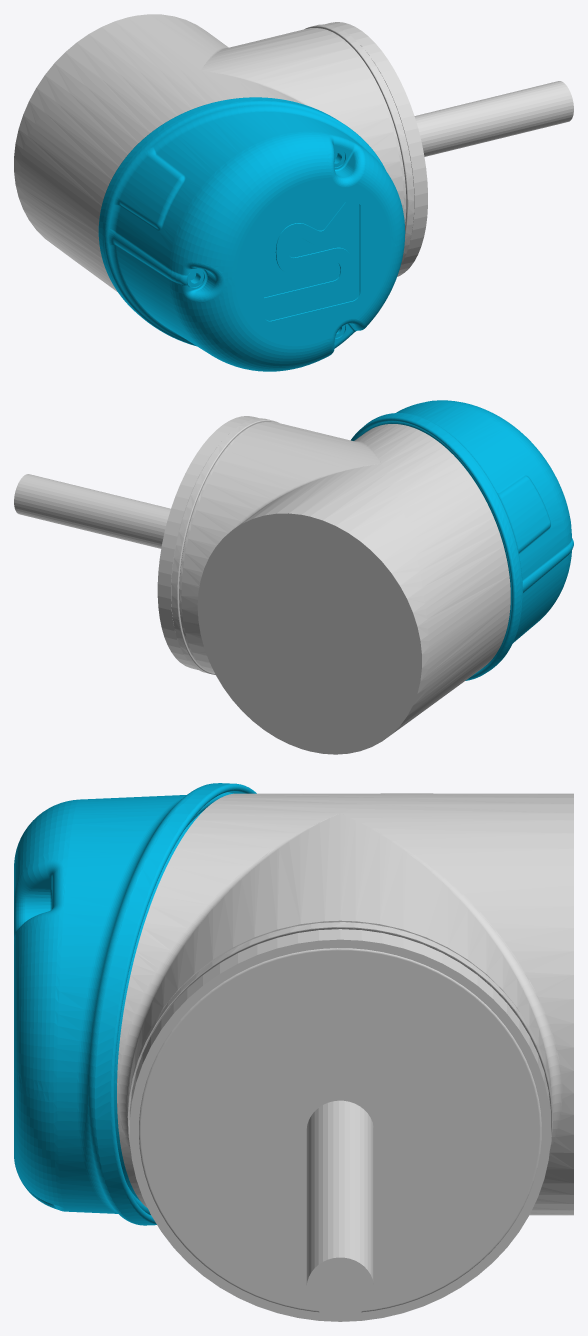
Rendered from Joint5.fbx.
3 views of the same model, one above another, from view 1: azimuth 30°, elevation 25°; view 2: azimuth 150°, elevation 25°; view 3: azimuth 270°, elevation 25° (orthographic). The views are drawn at different scales.
Parts seen in each view (by area): view 1: J5 - 34111-1, J5 - 31101-1, J5 - 31132-1, J5 - 33116-2, J5 - 33103-1; view 2: J5 - 31101-1, J5 - 34111-1, J5 - 31132-1, J5 - 33116-2, J5 - 33103-1; view 3: J5 - 33103-1, J5 - 31101-1, J5 - 34111-1, J5 - 33116-2, J5 - 31132-1.
Boxes of the visible parts, x1,y1,x2,y2 form: J5 - 34111-1: [98, 97, 405, 371]; J5 - 31101-1: [14, 14, 403, 291]; J5 - 31132-1: [317, 28, 573, 224]; J5 - 33116-2: [325, 22, 427, 276]; J5 - 33103-1: [304, 24, 414, 264]; J5 - 31101-1: [181, 421, 510, 754]; J5 - 34111-1: [351, 400, 573, 680]; J5 - 31132-1: [14, 422, 264, 669]; J5 - 33116-2: [157, 416, 258, 669]; J5 - 33103-1: [171, 418, 278, 674]; J5 - 33103-1: [127, 922, 552, 1312]; J5 - 31101-1: [117, 793, 573, 1215]; J5 - 34111-1: [14, 783, 256, 1225]; J5 - 33116-2: [129, 929, 550, 1321]; J5 - 31132-1: [273, 922, 414, 1318].
Size of the model in its own units: 15872 by 7870 by 9958.
